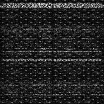lte: (1, 3, 104, 8), (1, 58, 104, 61)
